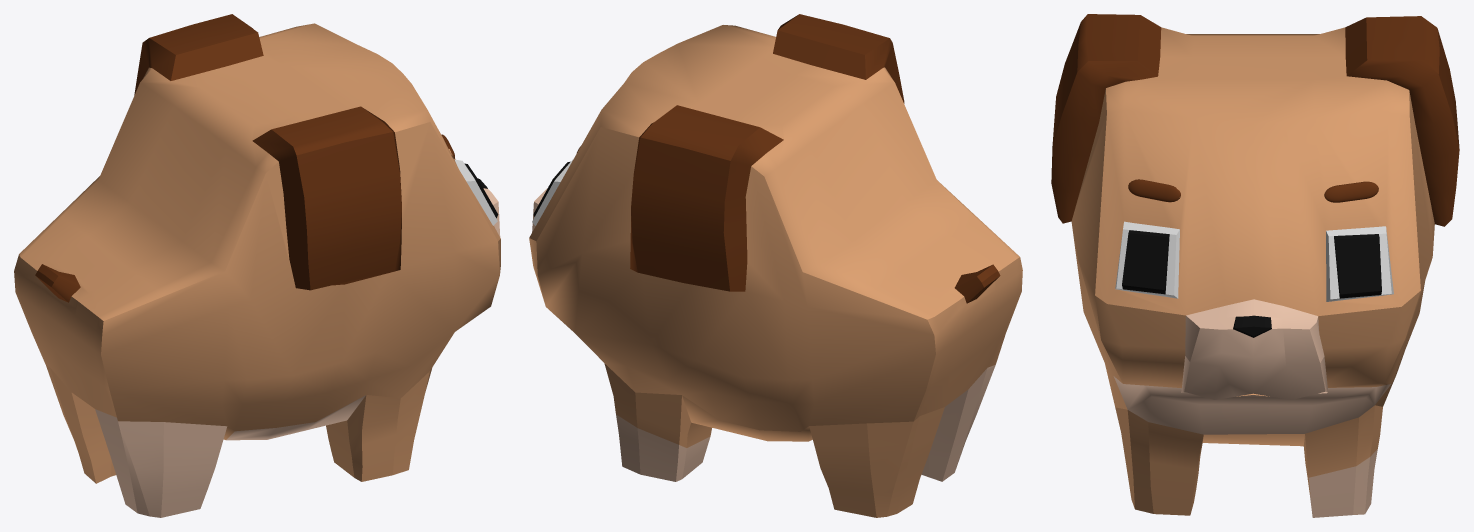
Rendered from MainMenu_Spikey_Anim.fbx.
The picture shows the model from 3 angles, left to right: view 1: azimuth 30°, elevation 25°; view 2: azimuth 150°, elevation 25°; view 3: azimuth 270°, elevation 25°; orthographic projection. The views are drawn at different scales.
Parts seen in each view (by area): view 1: SPIKEY_1; view 2: SPIKEY_1; view 3: SPIKEY_1.
Part boxes in pixels (x1,y1,x2,y2): SPIKEY_1: [14, 14, 500, 517]; SPIKEY_1: [529, 14, 1022, 517]; SPIKEY_1: [1051, 14, 1459, 517].
Size of the model in its own units: 10.58 by 8.69 by 7.55.
